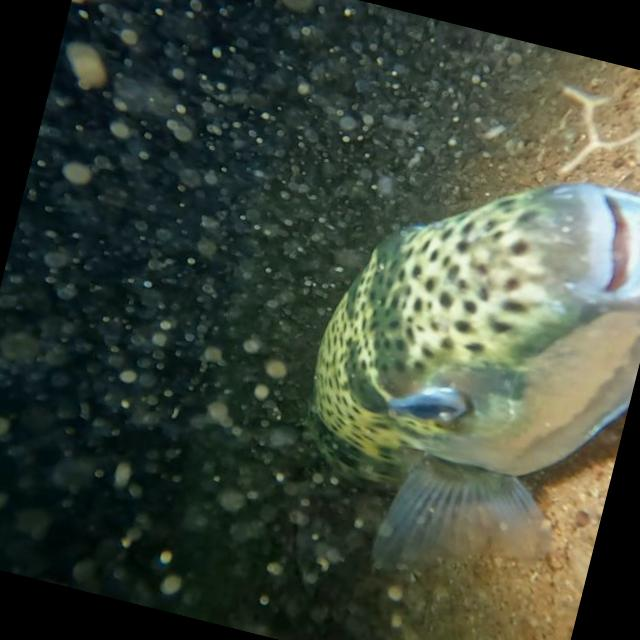Balon Baligi: (266, 128, 640, 618)
